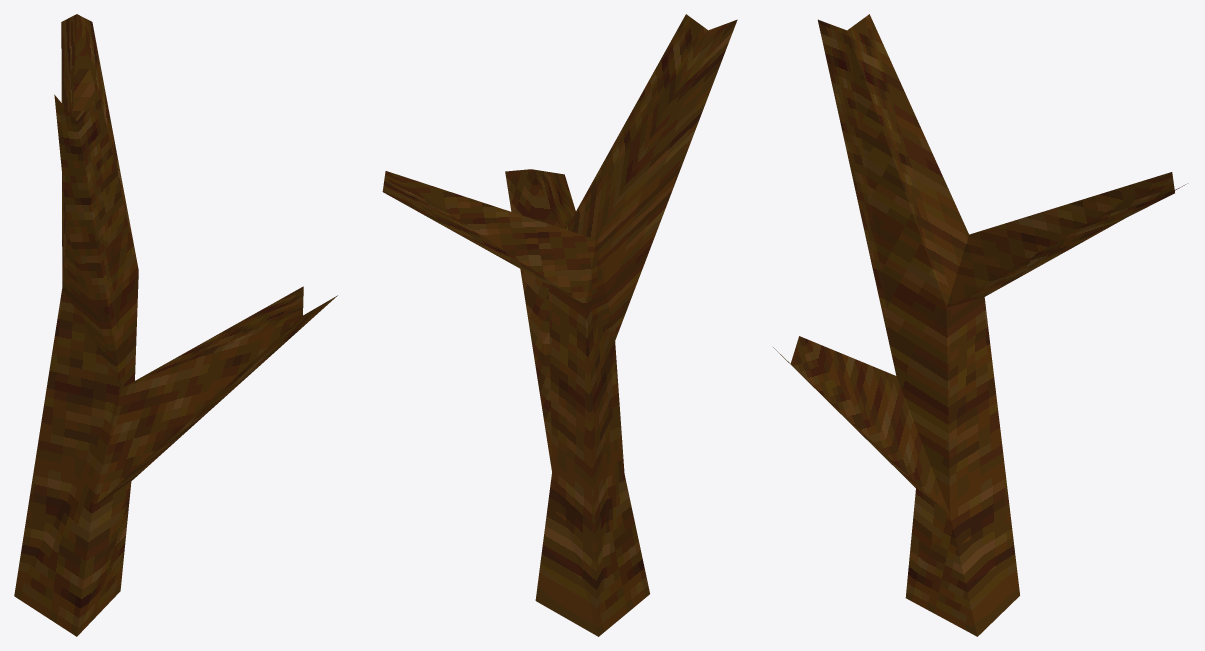
The model's file is treebranch01.glb.
The picture shows the model from 3 angles, left to right: view 1: azimuth 30°, elevation 25°; view 2: azimuth 150°, elevation 25°; view 3: azimuth 270°, elevation 25°; orthographic projection.
Visible parts, largest first — view 1: treebranch01; view 2: treebranch01; view 3: treebranch01.
Boxes of the visible parts, left/top/right/bottom form: treebranch01: left=14, top=14, right=337, bottom=636; treebranch01: left=382, top=14, right=737, bottom=636; treebranch01: left=773, top=14, right=1187, bottom=636.
Bounding box in the file's own units: 300 × 652 × 445.
1 material, 1 textured.
